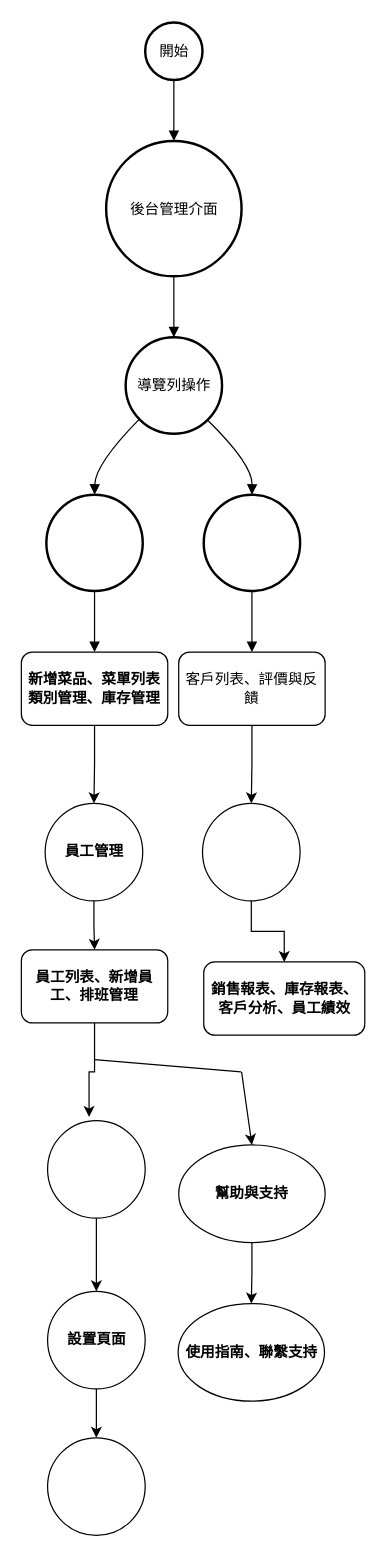
This 387x1557 diagram has some shape labels left out. Each missing label, with the box of its shape:
報表與分析: (201, 802, 300, 901)
客戶管理: (202, 493, 301, 592)
結束: (46, 1437, 145, 1535)
菜單管理: (45, 493, 143, 592)
設置: (46, 1119, 145, 1218)
